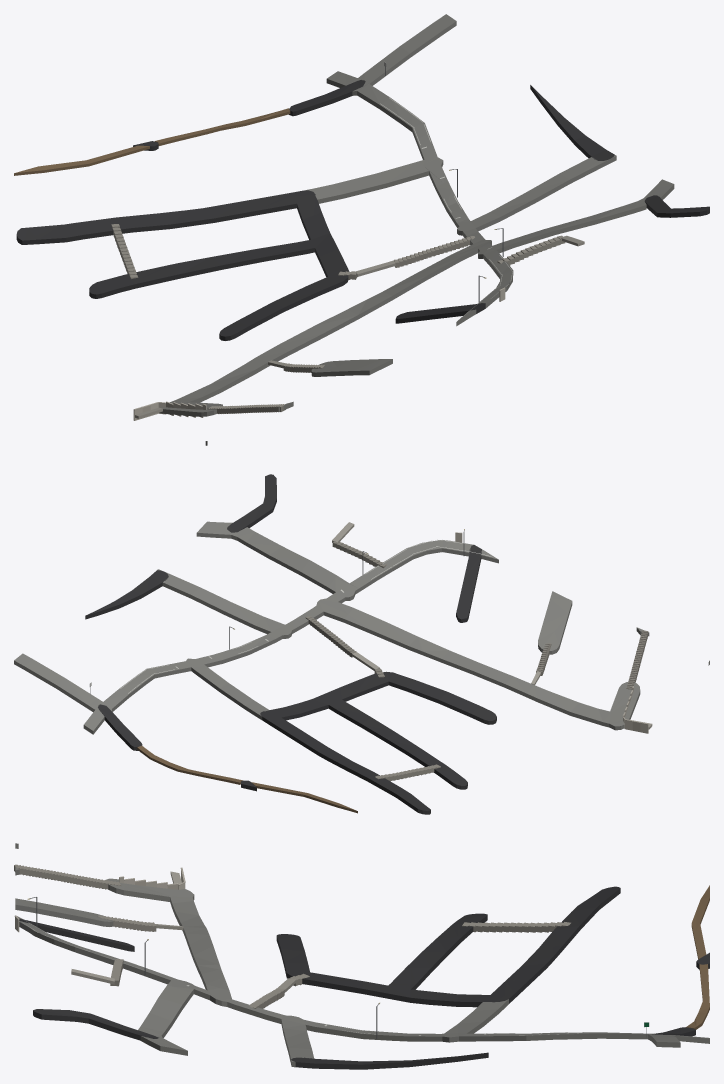
The picture shows the model from 3 angles, top to bottom: view 1: azimuth 30°, elevation 25°; view 2: azimuth 150°, elevation 25°; view 3: azimuth 270°, elevation 25°; orthographic projection. The views are drawn at different scales.
Size of the model in its own units: 147 by 35.61 by 146.
